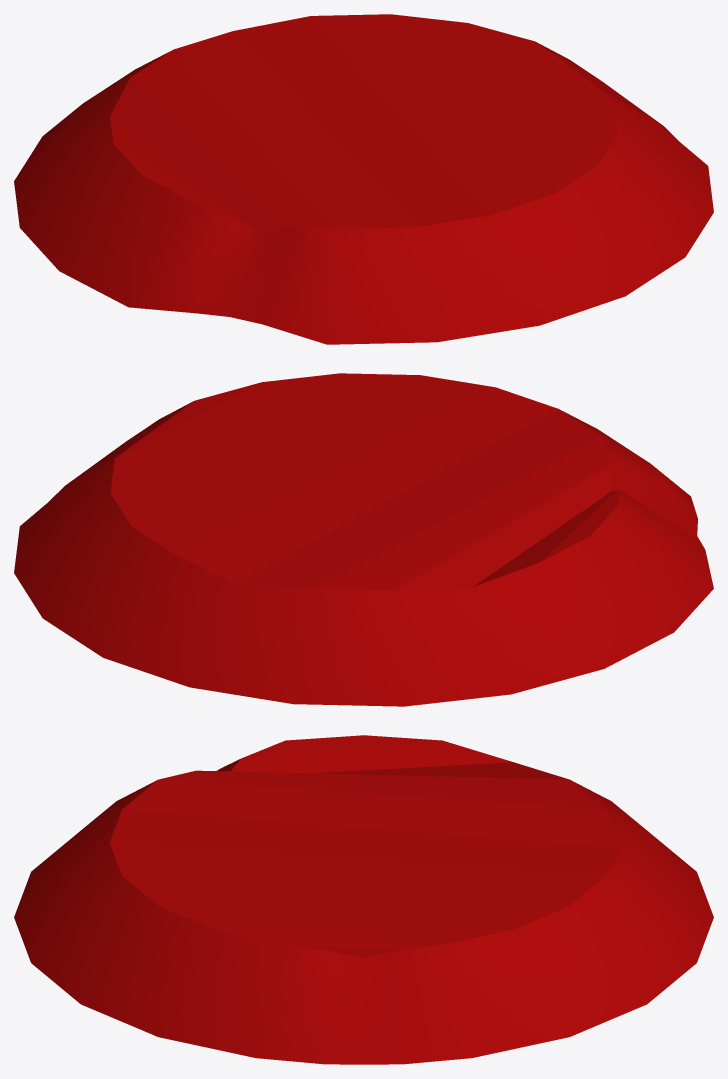
File: TomaSlice2.fbx
3 renders of one model, top to bottom at view 1: azimuth 30°, elevation 25°; view 2: azimuth 150°, elevation 25°; view 3: azimuth 270°, elevation 25°, orthographic.
Visible parts, largest first — view 1: TomatoSlice2; view 2: TomatoSlice2; view 3: TomatoSlice2.
Part boxes in pixels (box(x1,y1,x2,y2)): TomatoSlice2: box(14, 14, 713, 344); TomatoSlice2: box(14, 373, 713, 706); TomatoSlice2: box(14, 735, 713, 1064).
Bounding box in the file's own units: 1.6 × 0.1985 × 1.62.
